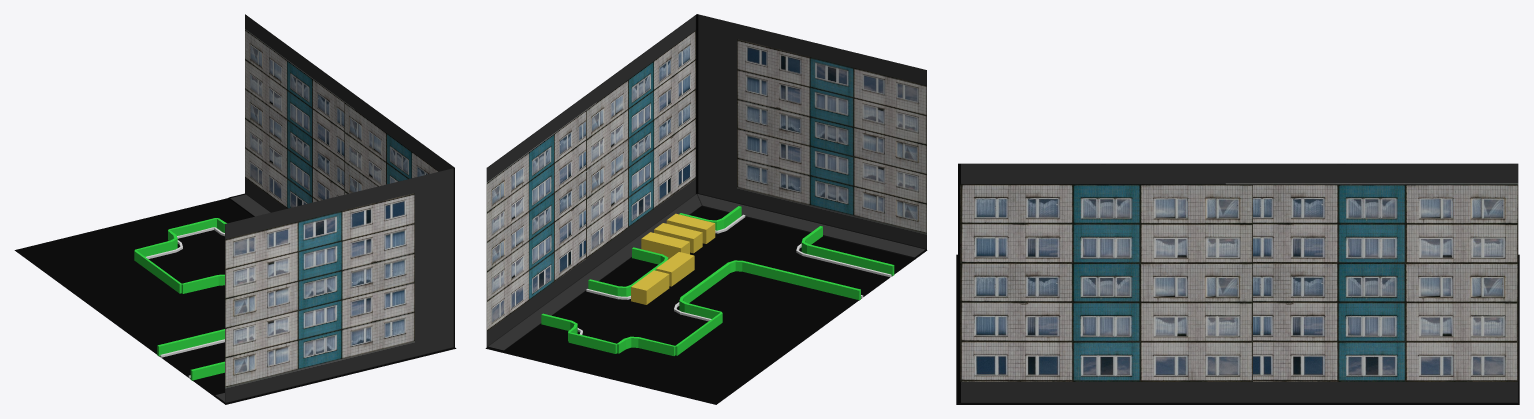
File: parking.glb
The picture shows the model from 3 angles, left to right: view 1: azimuth 30°, elevation 25°; view 2: azimuth 150°, elevation 25°; view 3: azimuth 270°, elevation 25°; orthographic projection. The views are drawn at different scales.
Parts seen in each view (by area): view 1: Cube, Ground, Fence, Curb; view 2: Cube, Ground, Fence, Car, Car.001, Curb; view 3: Cube, Ground.
Boxes of the visible parts, x1,y1,x2,y2 form: Cube: [214, 14, 454, 403]; Ground: [14, 198, 456, 404]; Fence: [134, 218, 226, 380]; Curb: [146, 227, 224, 378]; Cube: [486, 14, 926, 351]; Ground: [485, 206, 927, 404]; Fence: [541, 206, 894, 355]; Car: [641, 213, 715, 259]; Car.001: [631, 252, 694, 304]; Curb: [577, 214, 891, 334]; Cube: [958, 163, 1518, 402]; Ground: [956, 254, 1519, 404].
Bounding box in the file's own units: 24.1 × 18.05 × 38.2.
Materials: 4 (1 with a texture image).
